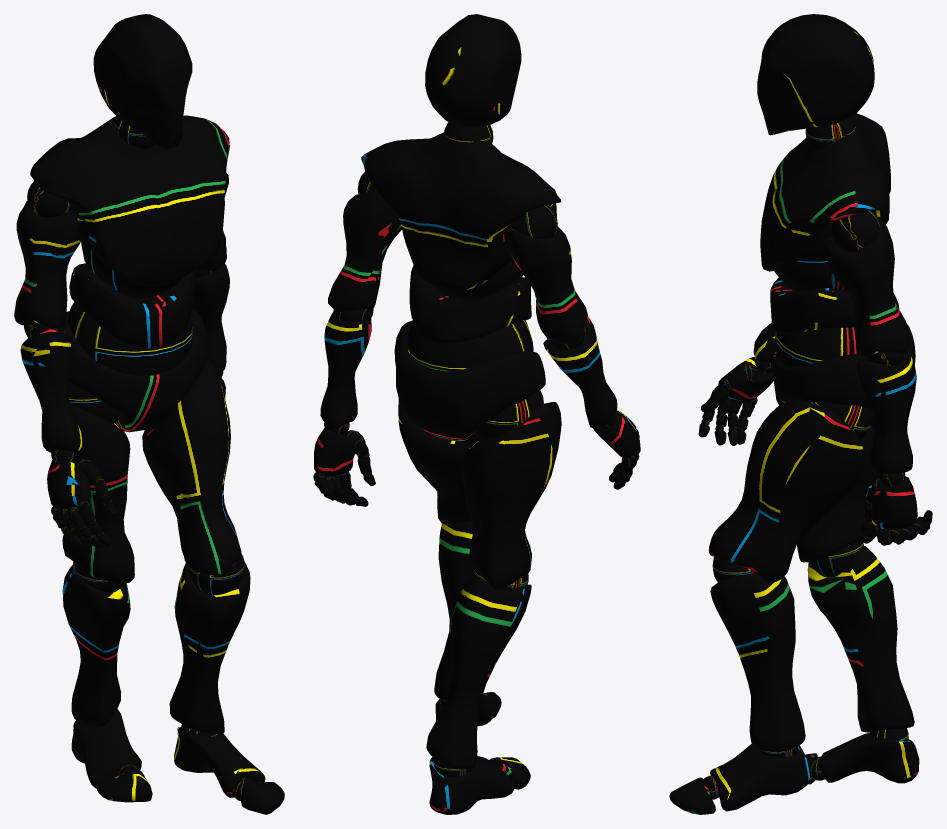
Rendered from y-bot-origin_000015.obj.
3 views of the same model, side by side, from view 1: azimuth 30°, elevation 25°; view 2: azimuth 150°, elevation 25°; view 3: azimuth 270°, elevation 25° (orthographic).
Parts seen in each view (by area): view 1: Alpha_Surface_Alpha_SurfaceMesh, Alpha_Joints_Alpha_JointsMesh; view 2: Alpha_Surface_Alpha_SurfaceMesh, Alpha_Joints_Alpha_JointsMesh; view 3: Alpha_Surface_Alpha_SurfaceMesh, Alpha_Joints_Alpha_JointsMesh.
Boxes of the visible parts, x1,y1,x2,y2 form: Alpha_Surface_Alpha_SurfaceMesh: (14,14,284,814); Alpha_Joints_Alpha_JointsMesh: (24,116,252,800); Alpha_Surface_Alpha_SurfaceMesh: (314,14,640,814); Alpha_Joints_Alpha_JointsMesh: (313,122,640,777); Alpha_Surface_Alpha_SurfaceMesh: (669,14,932,814); Alpha_Joints_Alpha_JointsMesh: (701,117,930,799).
Bounding box in the file's own units: 0.5949 × 1.79 × 0.5534.
